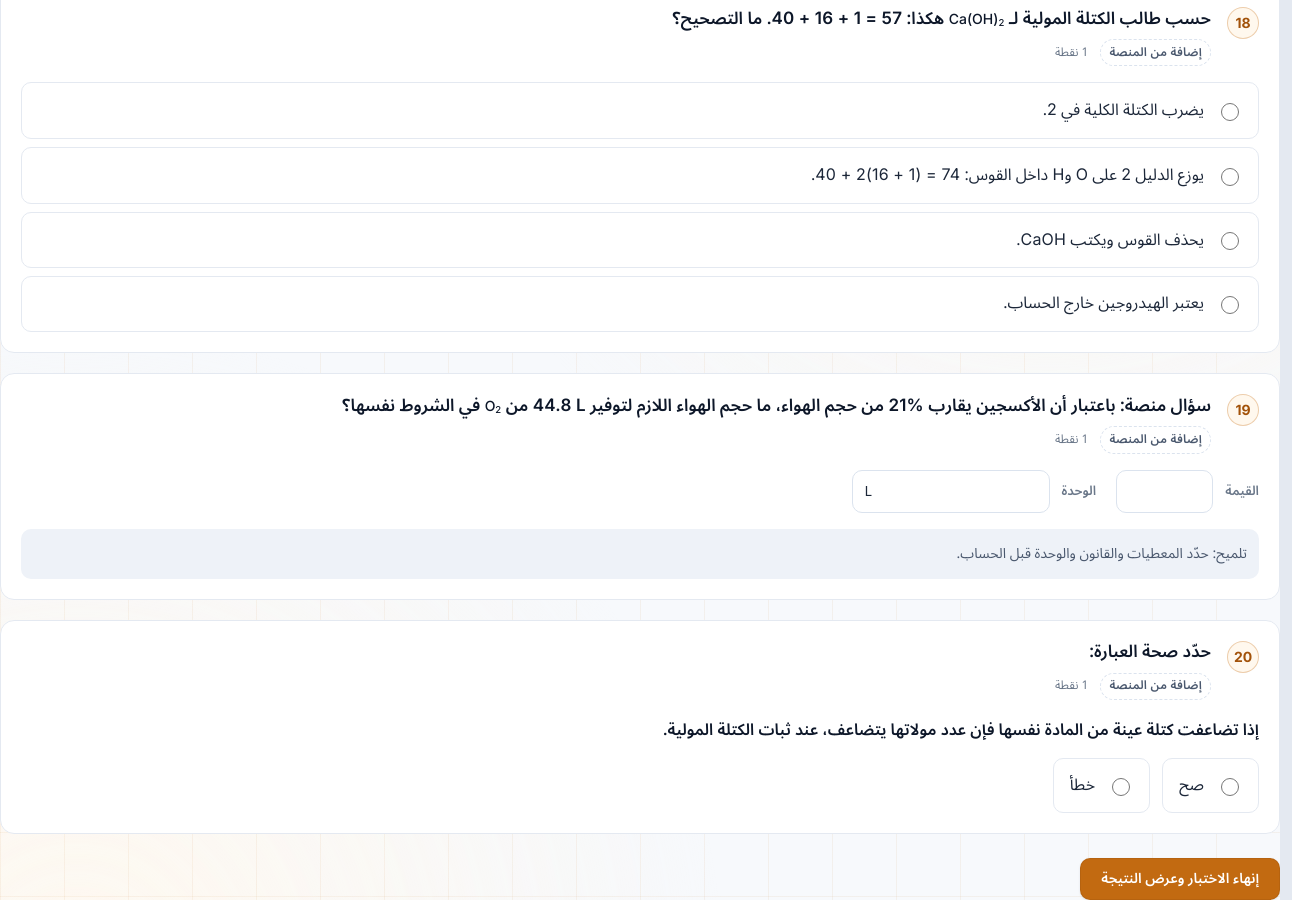
Scenario: Lesson 7 assessment behaviour and accessibility › requires complete final-test answers before submission
The width and height of the screenshot is (1292, 900).
(page scrolled)
Click the button "إنهاء الاختبار وعرض النتيجة" at [1180, 879], box [1080,858,1280,899]
(page scrolled)
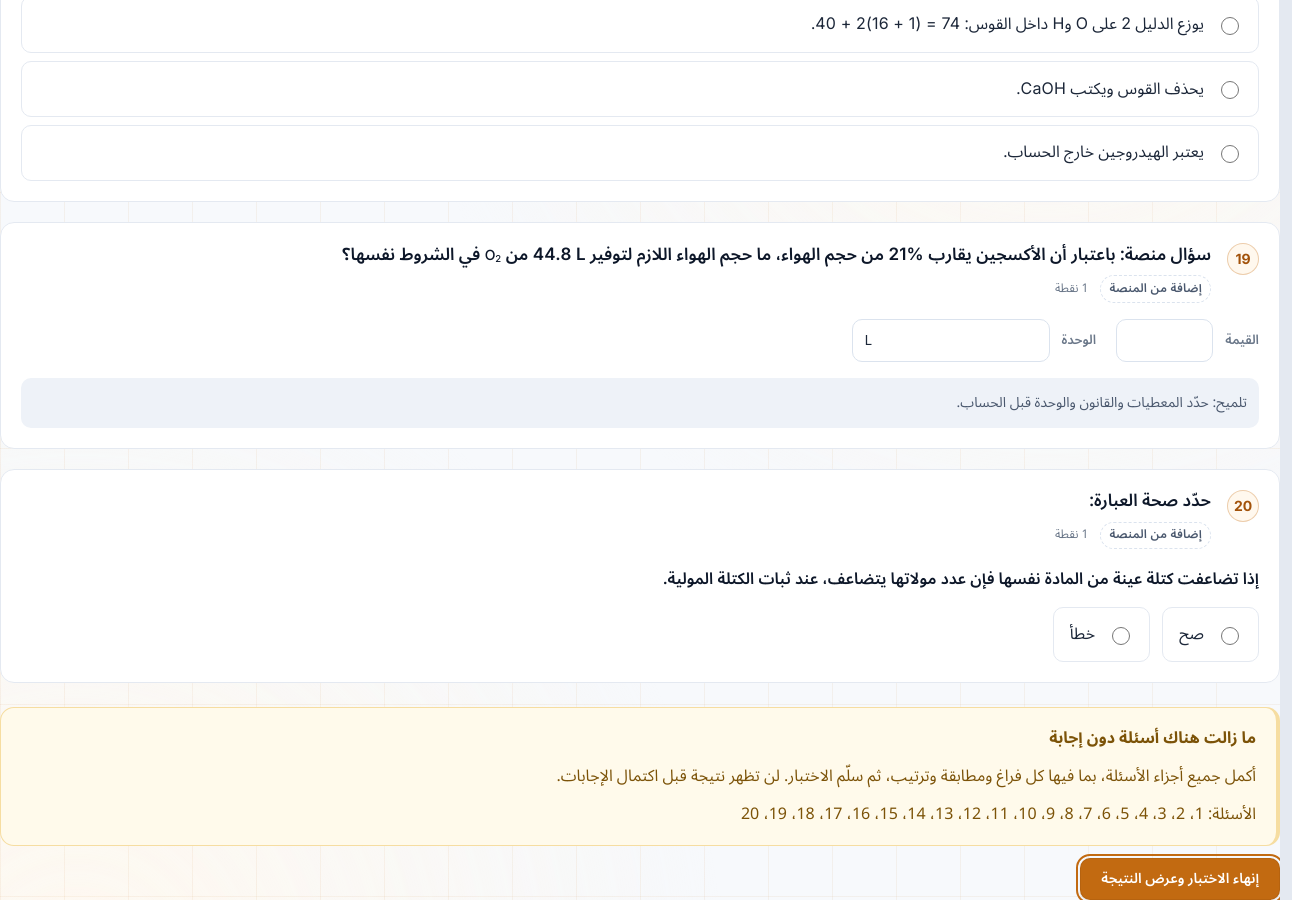
Expected: the text "ما زالت هناك أسئلة دون إجابة" is shown, [1049,721,1256,755]
